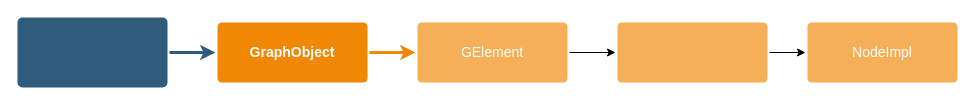
Image size: 974x104. Some labels were removed from this diagram. Each missing label, with the box of its shape:
CObject: (17, 17, 167, 87)
GNode: (617, 22, 767, 82)
